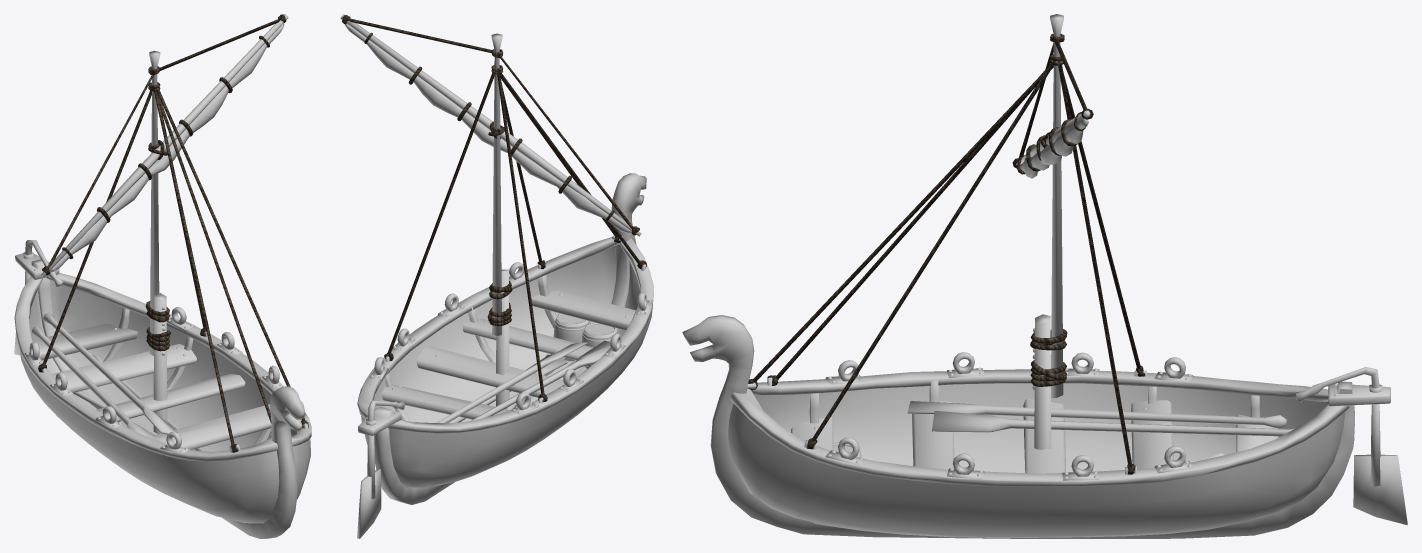
The model's file is Medieval_boat.FBX.
The picture shows the model from 3 angles, left to right: view 1: azimuth 30°, elevation 25°; view 2: azimuth 150°, elevation 25°; view 3: azimuth 270°, elevation 25°; orthographic projection. The views are drawn at different scales.
Parts seen in each view (by area): view 1: medieval_boat, boat_paddle_02, boat_paddle_03, boat_wheel; view 2: medieval_boat, boat_wheel, boat_paddle_02, boat_paddle_03, boat_barrel01, boat_barrel, boat_paddle_01; view 3: medieval_boat, boat_wheel, boat_paddle_02, boat_paddle_03.
Boxes of the visible parts, <box> form: medieval_boat: <box>14,14,311,538</box>; boat_paddle_02: <box>43,312,180,435</box>; boat_paddle_03: <box>32,326,160,441</box>; boat_wheel: <box>14,240,63,355</box>; medieval_boat: <box>340,14,653,504</box>; boat_wheel: <box>357,400,404,538</box>; boat_paddle_02: <box>436,342,587,422</box>; boat_paddle_03: <box>471,340,610,420</box>; boat_barrel01: <box>553,313,590,361</box>; boat_barrel: <box>582,322,618,368</box>; boat_paddle_01: <box>448,355,567,422</box>; medieval_boat: <box>682,14,1390,538</box>; boat_wheel: <box>1295,367,1407,525</box>; boat_paddle_02: <box>932,411,1294,436</box>; boat_paddle_03: <box>907,401,1286,428</box>.
Bounding box in the file's own units: 273 × 391 × 497.
